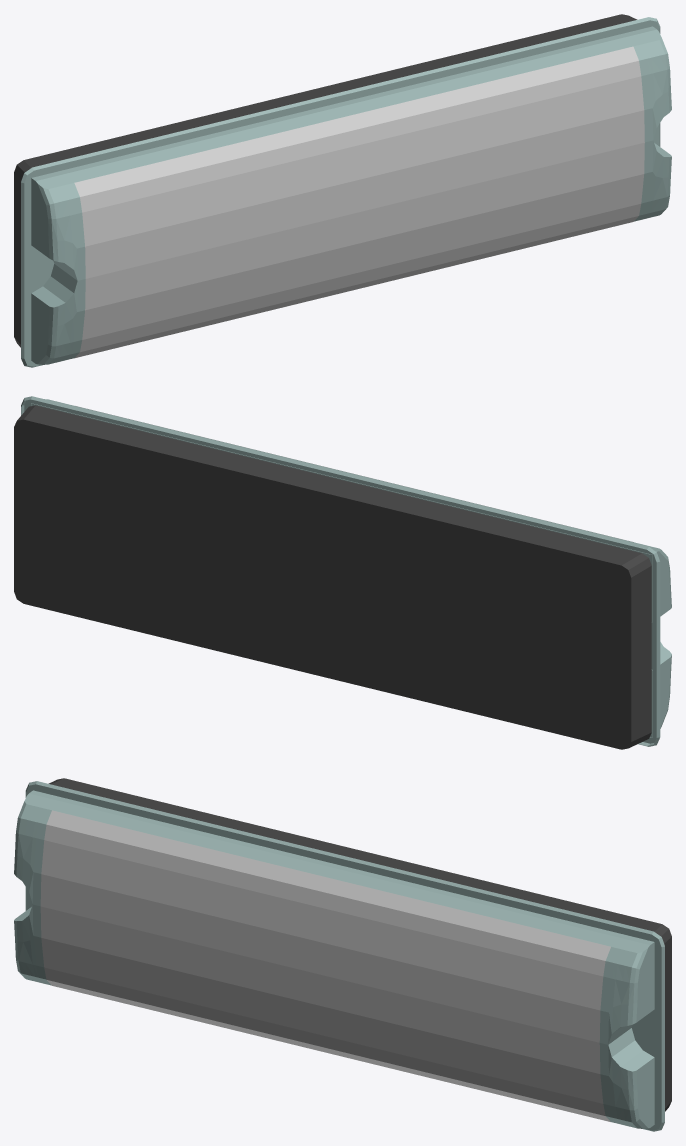
Rendered from emergencySign.obj.
The picture shows the model from 3 angles, top to bottom: view 1: azimuth 30°, elevation 25°; view 2: azimuth 150°, elevation 25°; view 3: azimuth 330°, elevation 25°; orthographic projection.
Visible parts, largest first — view 1: Emergency_light_Cube.002; view 2: Emergency_light_Cube.002; view 3: Emergency_light_Cube.002.
Boxes of the visible parts, x1=… form: Emergency_light_Cube.002: x1=14, y1=14, x2=671, y2=367; Emergency_light_Cube.002: x1=14, y1=396, x2=671, y2=749; Emergency_light_Cube.002: x1=14, y1=778, x2=671, y2=1131.
Size of the model in its own units: 30.02 by 8.99 by 3.49.
